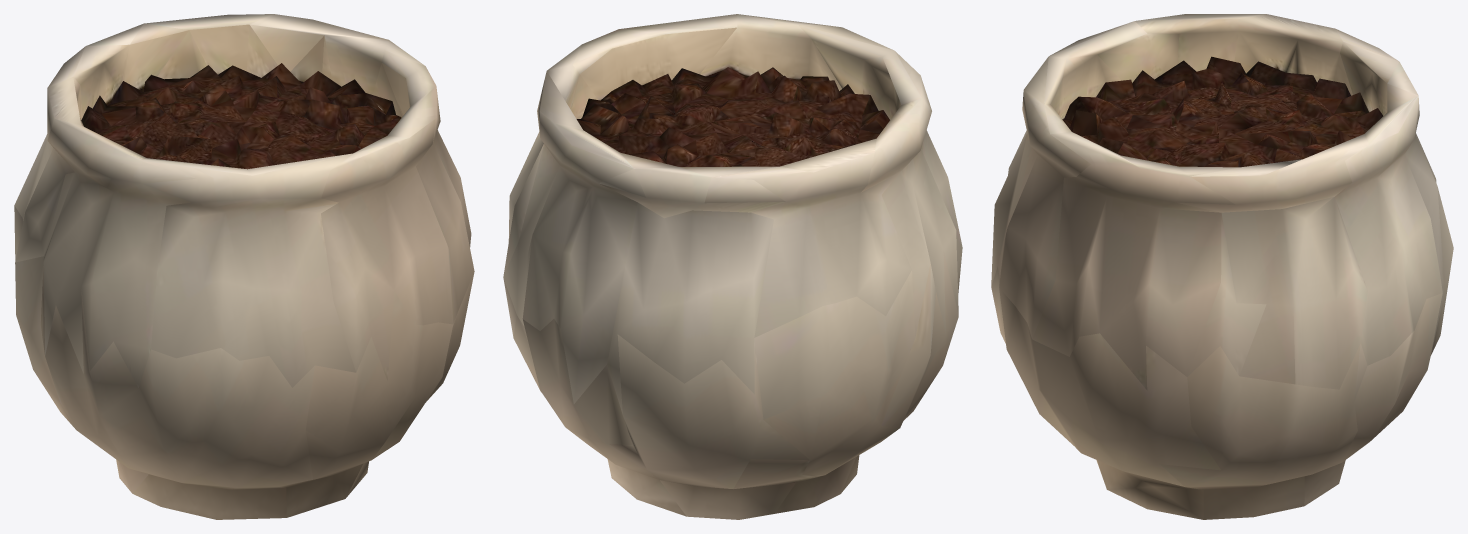
The model's file is cafe-pot-oat.glb.
The picture shows the model from 3 angles, left to right: view 1: azimuth 30°, elevation 25°; view 2: azimuth 150°, elevation 25°; view 3: azimuth 270°, elevation 25°; orthographic projection.
Parts seen in each view (by area): view 1: tripo_node_492ff4a5-6461-4072-b346-51c7dc2f8a92; view 2: tripo_node_492ff4a5-6461-4072-b346-51c7dc2f8a92; view 3: tripo_node_492ff4a5-6461-4072-b346-51c7dc2f8a92.
Part boxes in pixels (<box>): tripo_node_492ff4a5-6461-4072-b346-51c7dc2f8a92: <box>14,14,474,519</box>; tripo_node_492ff4a5-6461-4072-b346-51c7dc2f8a92: <box>503,14,962,519</box>; tripo_node_492ff4a5-6461-4072-b346-51c7dc2f8a92: <box>991,14,1453,519</box>.
Size of the model in its own units: 0.379 by 0.34 by 0.38.
Materials: 1 (1 with a texture image).
